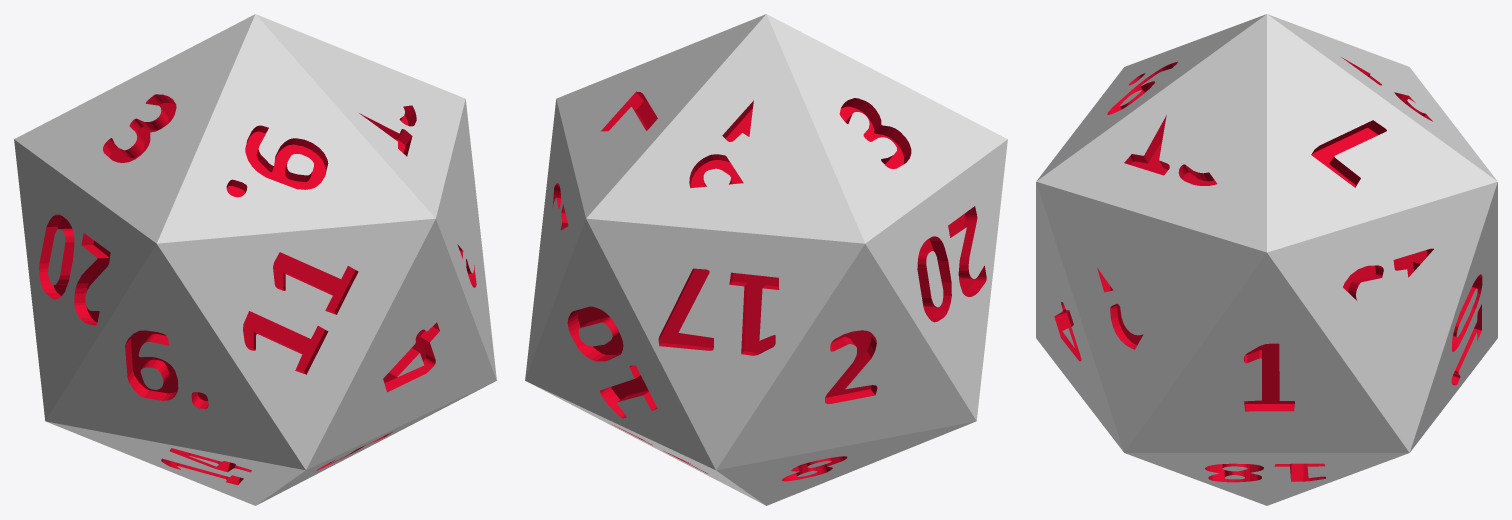
3 views of the same model, side by side, from view 1: azimuth 30°, elevation 25°; view 2: azimuth 150°, elevation 25°; view 3: azimuth 270°, elevation 25° (orthographic).
Parts seen in each view (by area): view 1: Icosphere.004; view 2: Icosphere.004; view 3: Icosphere.004.
Boxes of the visible parts, x1,y1,x2,y2 form: Icosphere.004: (14,14,496,505); Icosphere.004: (525,14,1007,505); Icosphere.004: (1036,14,1497,505).
Size of the model in its own units: 1.43 by 1.6 by 1.36.
